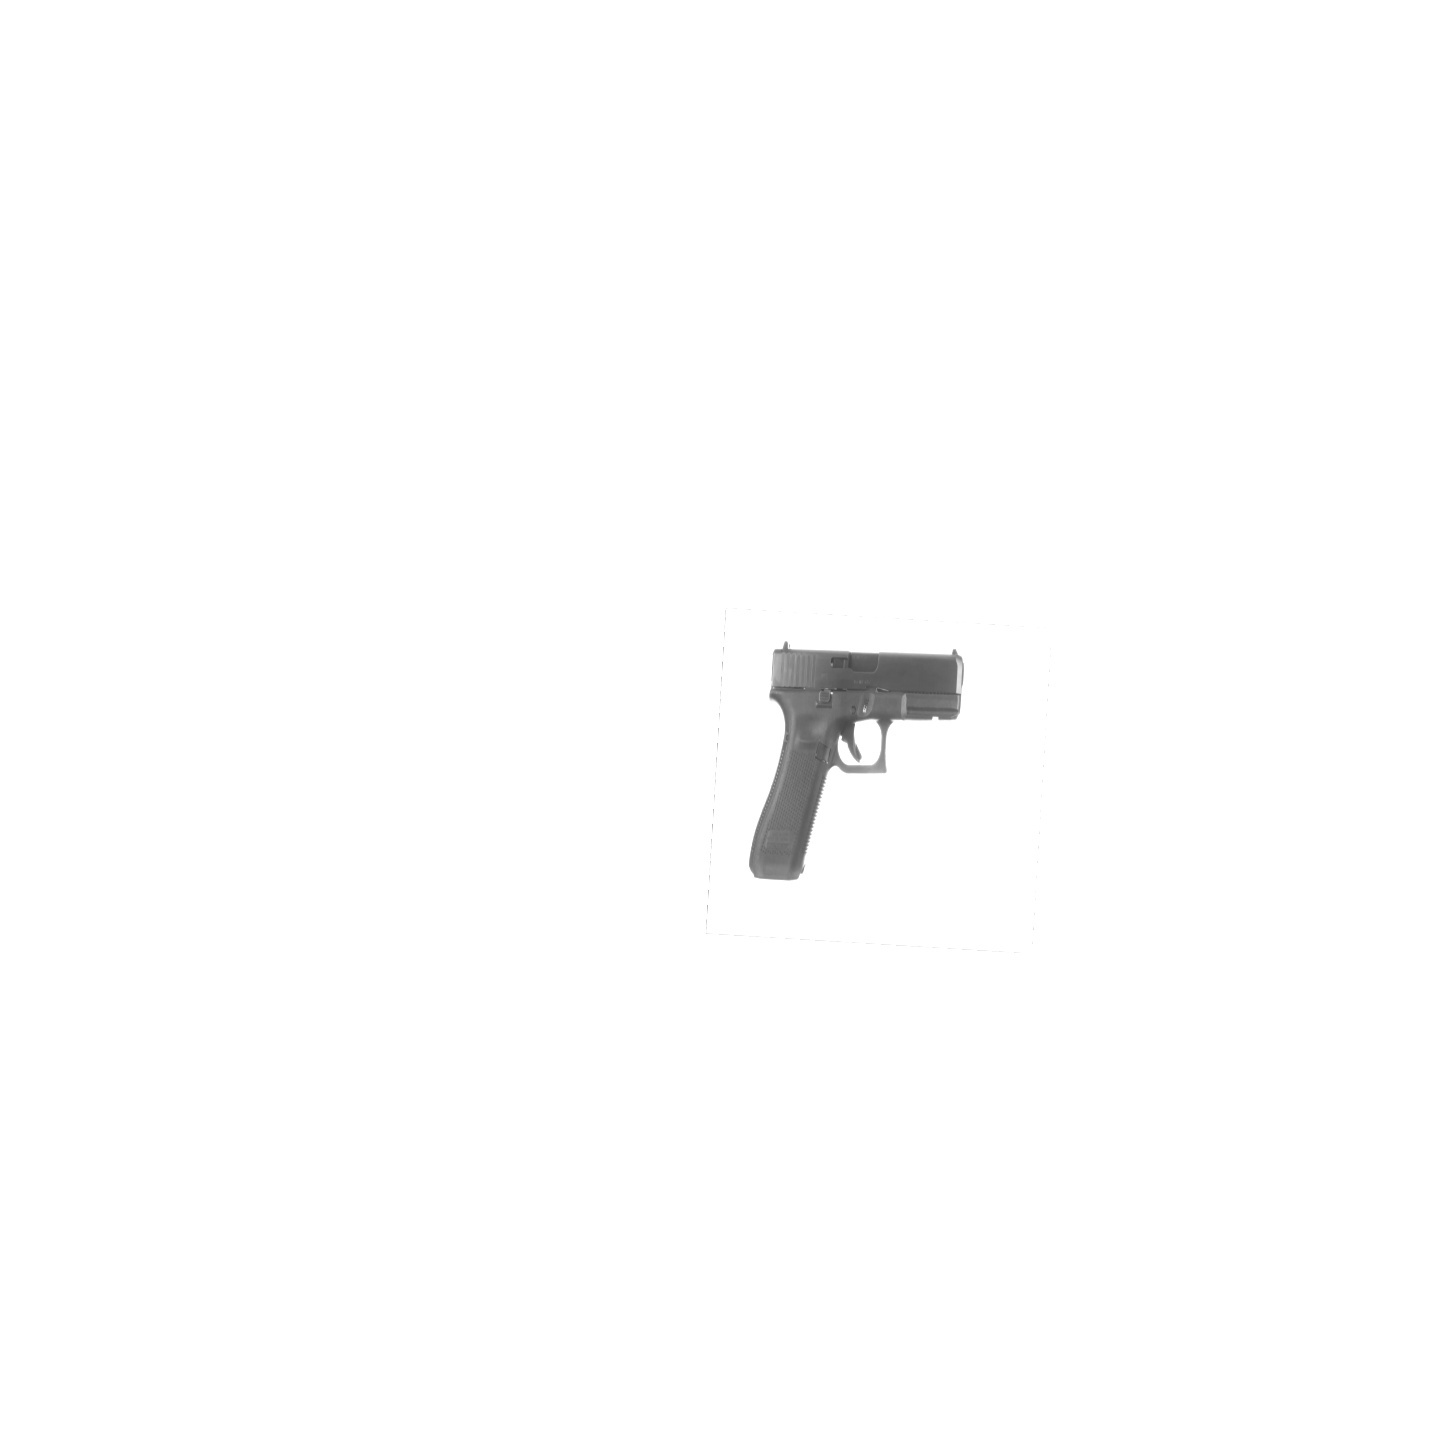gun: (744, 637, 968, 882)
